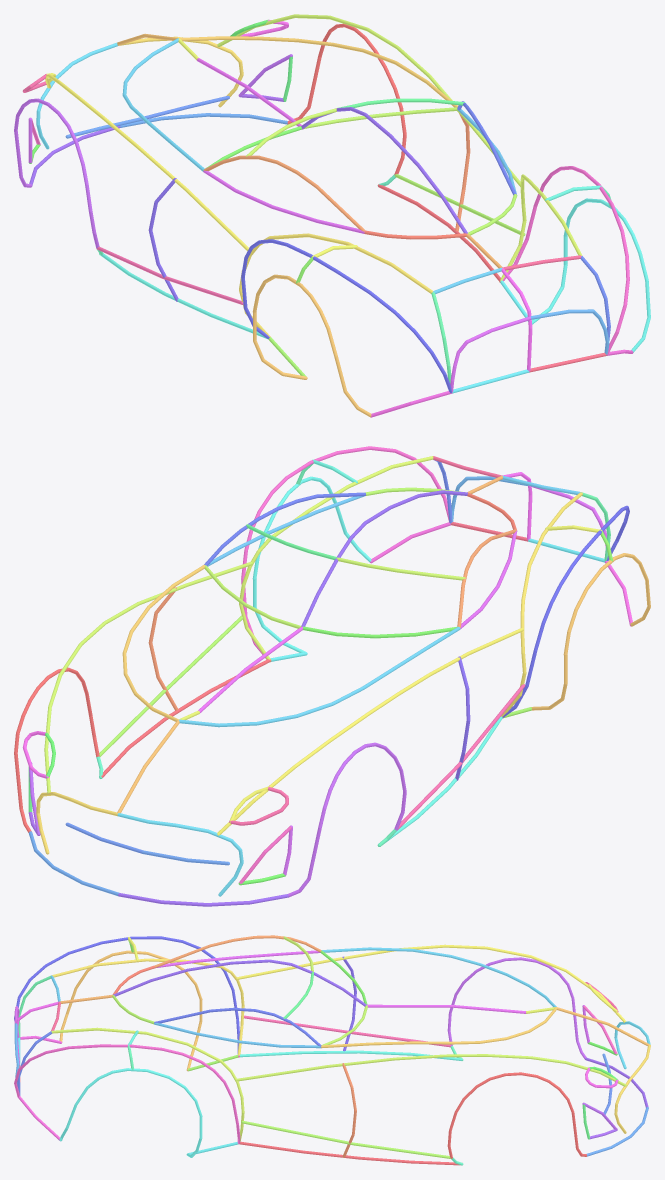
Rendered from ils_roadster.gltf.
3 views of the same model, one above another, from view 1: azimuth 30°, elevation 25°; view 2: azimuth 150°, elevation 25°; view 3: azimuth 270°, elevation 25° (orthographic). The views are drawn at different scales.
Size of the model in its own units: 0.3989 by 0.2379 by 0.8923.
